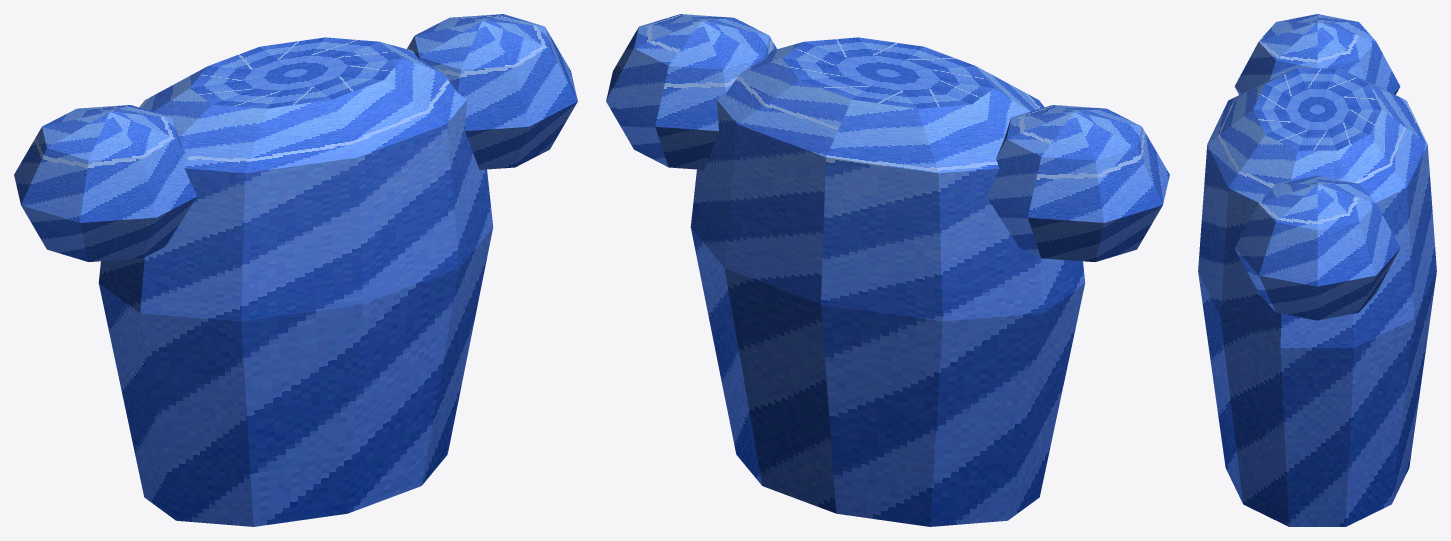
The model's file is peitoral_de_safira.glb.
3 views of the same model, side by side, from view 1: azimuth 30°, elevation 25°; view 2: azimuth 150°, elevation 25°; view 3: azimuth 270°, elevation 25° (orthographic). The views are drawn at different scales.
Visible parts, largest first — view 1: peitoral_de_safira; view 2: peitoral_de_safira; view 3: peitoral_de_safira.
Boxes of the visible parts, x1,y1,x2,y2 form: peitoral_de_safira: (14,14,577,526); peitoral_de_safira: (606,14,1169,526); peitoral_de_safira: (1198,14,1436,526).
Size of the model in its own units: 0.886 by 0.6305 by 0.3744.
1 material, 1 textured.
